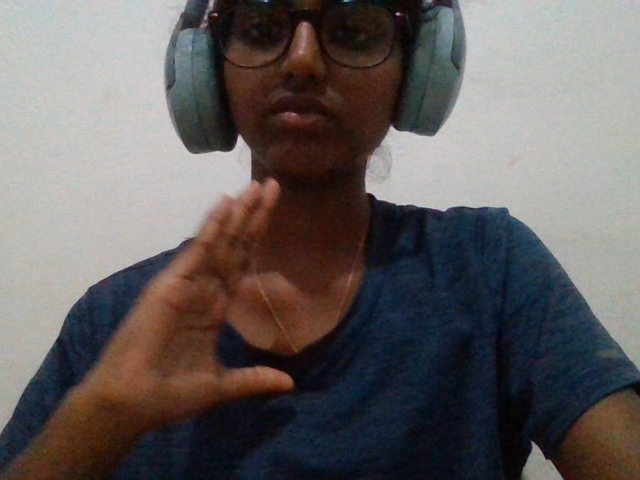Fine: (72, 144, 320, 427)
